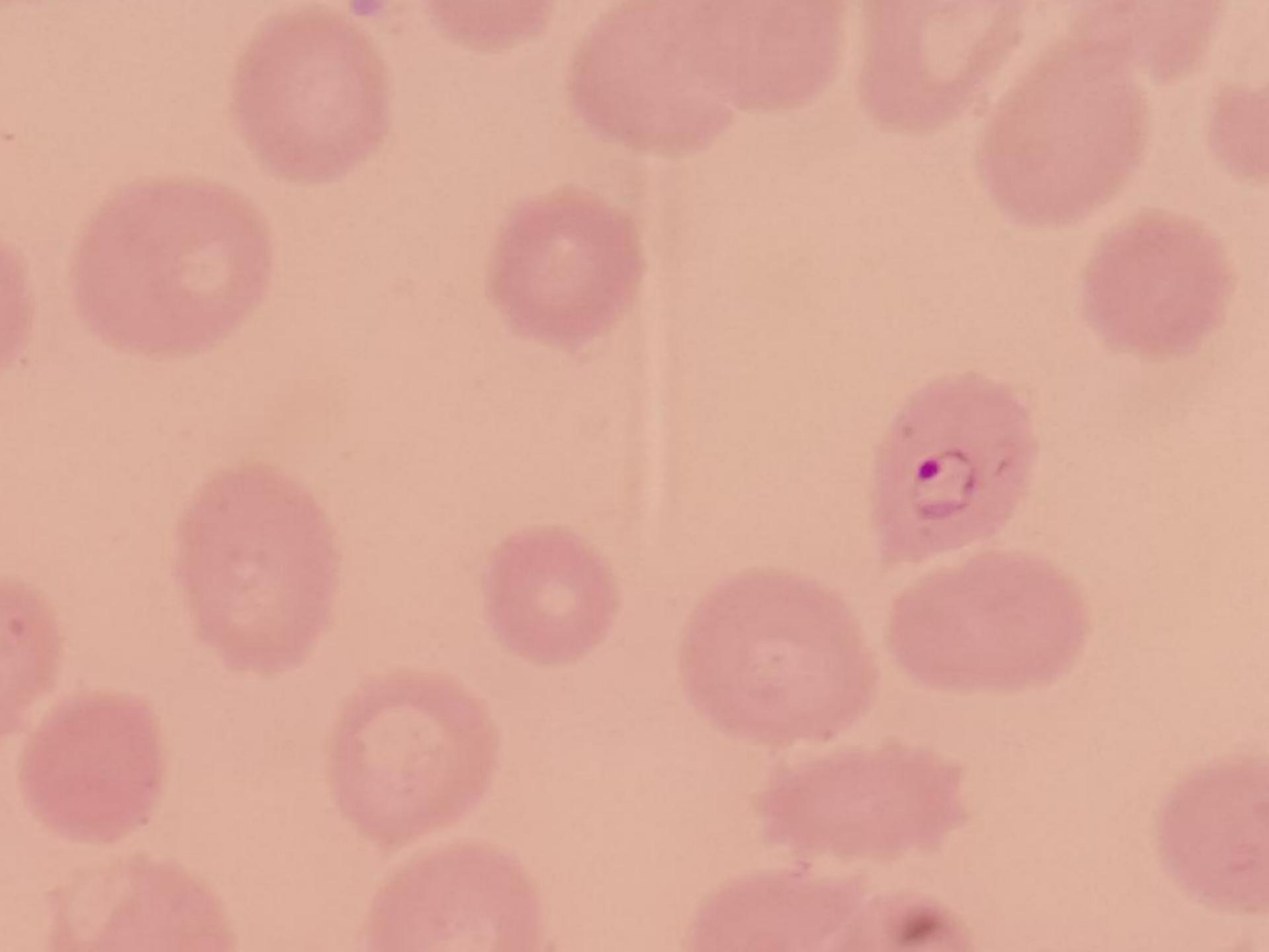Infected: (866, 372, 1034, 553)
Uninfected: (681, 565, 880, 748), (66, 177, 271, 351), (172, 463, 324, 680), (972, 52, 1155, 220), (324, 676, 504, 843), (489, 182, 648, 349), (892, 555, 1088, 690), (230, 14, 386, 180), (573, 0, 738, 155), (753, 747, 965, 859), (1081, 211, 1239, 361), (17, 691, 164, 839), (861, 0, 1024, 130), (489, 522, 616, 669), (362, 849, 539, 952), (1157, 755, 1269, 915), (696, 0, 847, 110)
